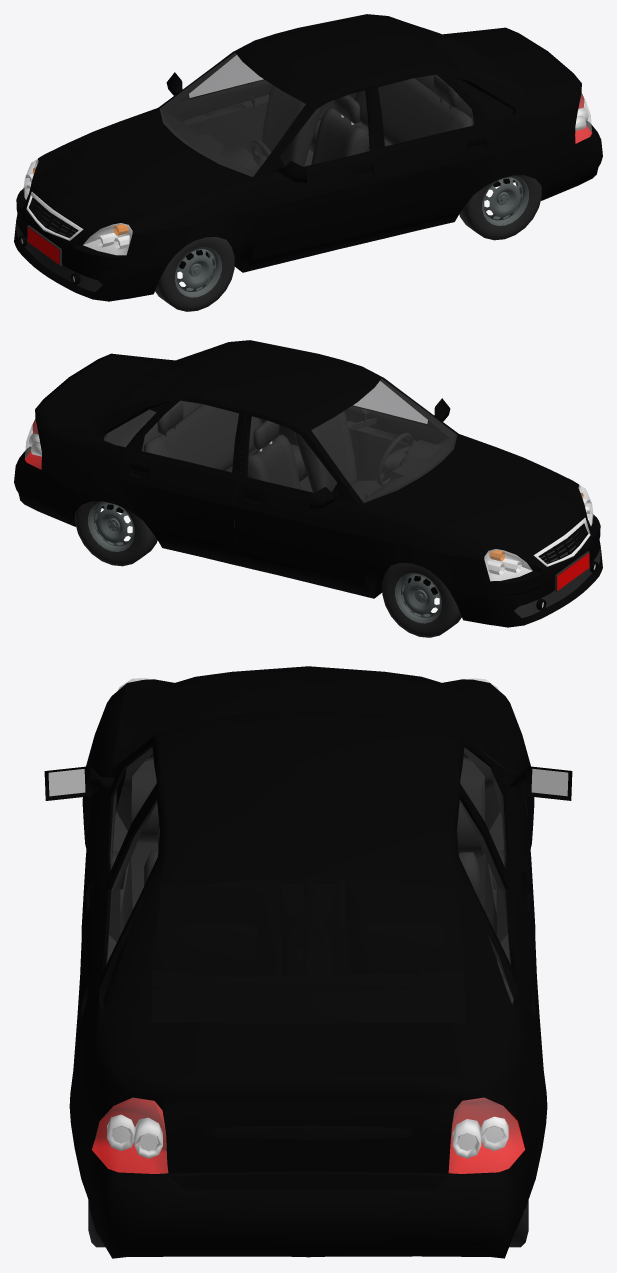
The model's file is lada_priora_vaz_sedan.glb.
The picture shows the model from 3 angles, top to bottom: view 1: azimuth 30°, elevation 25°; view 2: azimuth 150°, elevation 25°; view 3: azimuth 270°, elevation 25°; orthographic projection. The views are drawn at different scales.
Visible parts, largest first — view 1: object 1, object 19, object 13, Cube.006, Cube.008, Cylinder.016, Cylinder.005, object 11, object 14, object 8, Cylinder.011, Cube.015 (+1 smaller); view 2: object 1, object 19, object 13, Cube.006, Cube.008, Cylinder.016, Cylinder.005, object 11, object 14, object 8, Cylinder.006, Cylinder.011 (+2 smaller); view 3: object 1, object 19, object 13, object 6, Cylinder.017, Cylinder.014.
Boxes of the visible parts, bbox=[...] form: object 1: bbox=[14, 14, 602, 301]; object 19: bbox=[166, 72, 382, 257]; object 13: bbox=[319, 71, 497, 230]; Cube.006: bbox=[161, 53, 305, 176]; Cube.008: bbox=[309, 75, 472, 152]; Cylinder.016: bbox=[155, 237, 234, 311]; Cylinder.005: bbox=[459, 175, 541, 240]; object 11: bbox=[311, 95, 369, 164]; object 14: bbox=[250, 85, 322, 166]; object 8: bbox=[23, 159, 132, 254]; Cylinder.011: bbox=[25, 167, 129, 249]; Cube.015: bbox=[27, 225, 61, 266]; object 1: bbox=[14, 340, 602, 627]; object 19: bbox=[234, 398, 450, 583]; object 13: bbox=[119, 397, 297, 556]; Cube.006: bbox=[311, 379, 455, 502]; Cube.008: bbox=[144, 401, 307, 481]; Cylinder.016: bbox=[382, 563, 461, 637]; Cylinder.005: bbox=[75, 501, 157, 566]; object 11: bbox=[294, 411, 381, 500]; object 14: bbox=[247, 420, 301, 489]; object 8: bbox=[484, 484, 593, 580]; Cylinder.006: bbox=[375, 432, 413, 486]; Cylinder.011: bbox=[487, 493, 590, 575]; object 1: bbox=[69, 666, 547, 1258]; object 19: bbox=[44, 736, 572, 959]; object 13: bbox=[73, 783, 543, 1068]; object 6: bbox=[92, 1098, 524, 1173]; Cylinder.017: bbox=[134, 1117, 481, 1158]; Cylinder.014: bbox=[107, 1114, 508, 1150].
Size of the model in its own units: 6.15 by 2.03 by 2.7.
